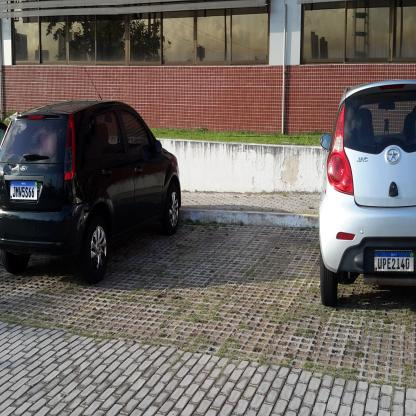PlacaM: (374, 250, 414, 272), (10, 180, 38, 201)
